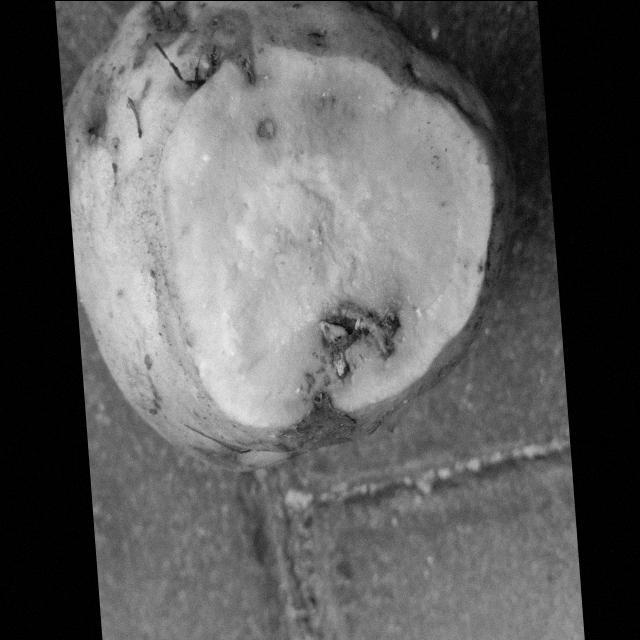Sick Sweet Potato_Tuber Rot: (162, 47, 492, 427)
